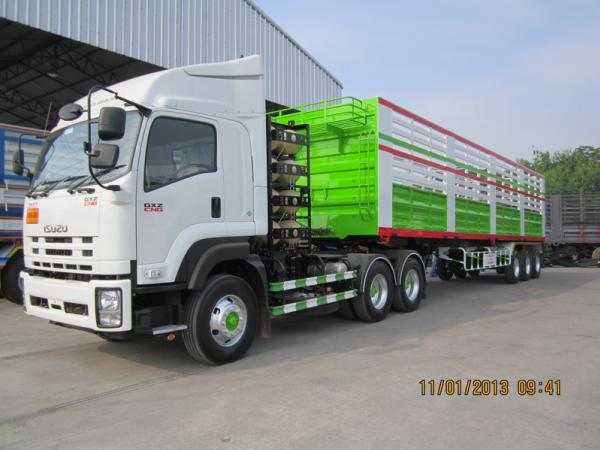truck: (26, 83, 395, 364)
